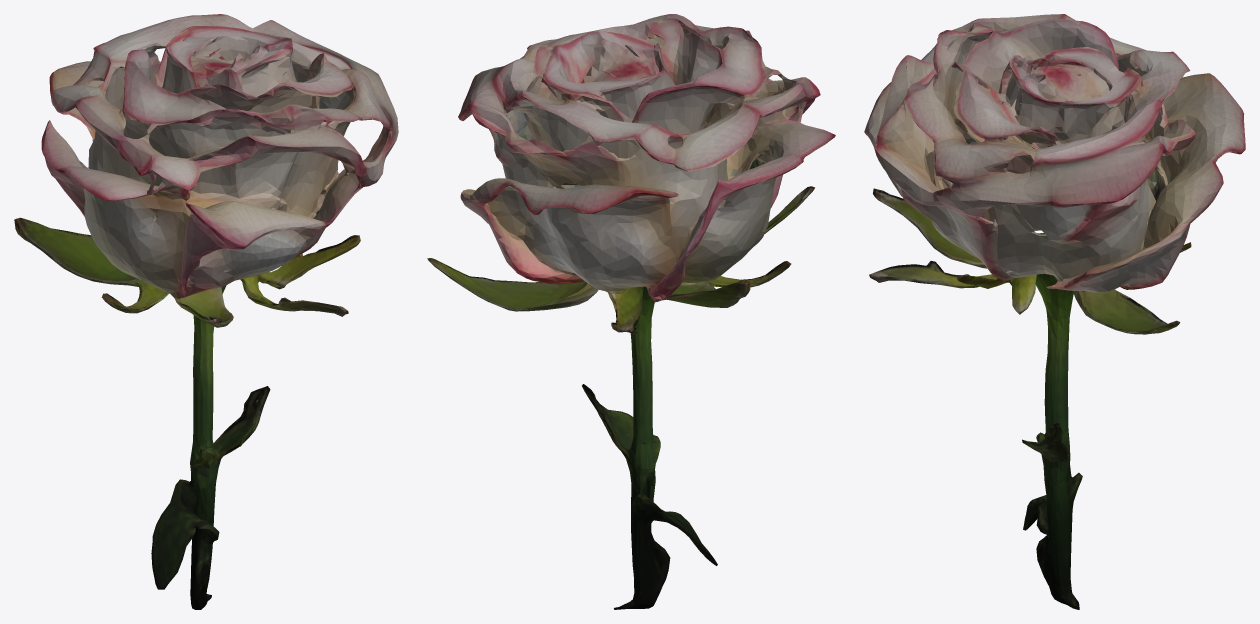
The picture shows the model from 3 angles, left to right: view 1: azimuth 30°, elevation 25°; view 2: azimuth 150°, elevation 25°; view 3: azimuth 270°, elevation 25°; orthographic projection.
Visible parts, largest first — view 1: world; view 2: world; view 3: world.
Boxes of the visible parts, bbox=[...] form: world: bbox=[14, 14, 398, 609]; world: bbox=[427, 14, 835, 609]; world: bbox=[864, 14, 1245, 609].
Size of the model in its own units: 0.5786 by 0.9326 by 0.5841.
Materials: 1 (1 with a texture image).
